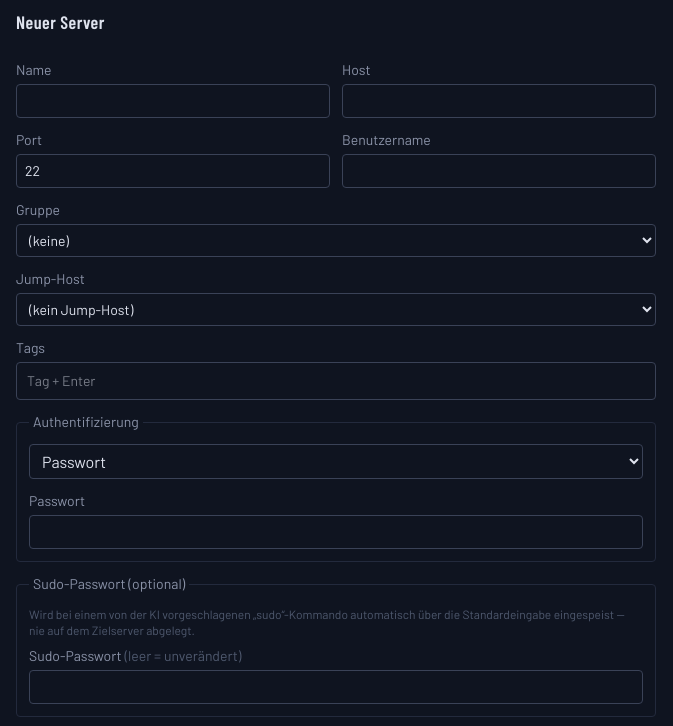
ServerForm — Anmeldeart Schlüsseldatei (Spec 0076, B-1..B-4) › zeigt beim Pfadwechsel sofort 'wird geprüft', nicht den Befund des alten Pfads (Fix 7)
The image size is (673, 726).
Step 1. Select "Schlüsseldatei" in the 3rd dropdown → (336, 462), box [29,444,643,479]
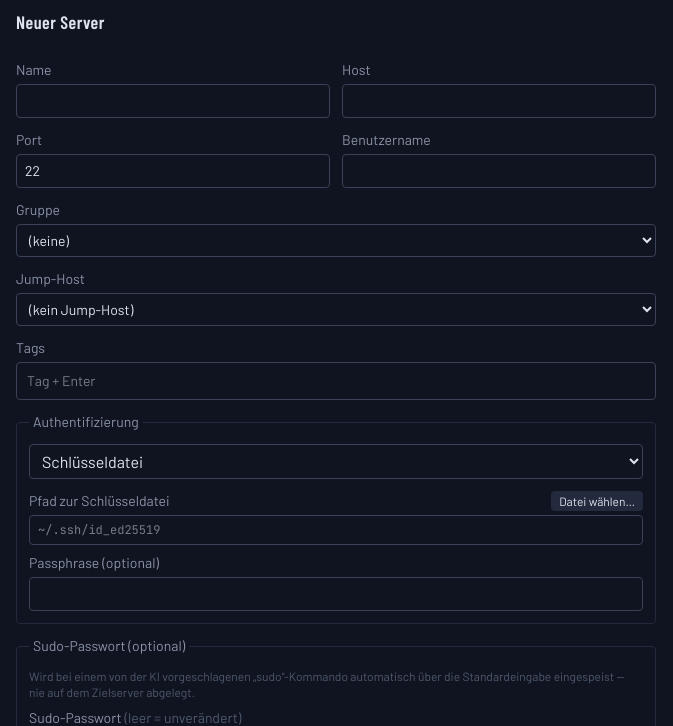
Step 2. Type "/home/deploy/.ssh/id_ed25519" into the field with placeholder "~/.ssh/id_ed25519" → (336, 530), box [29,515,643,545]
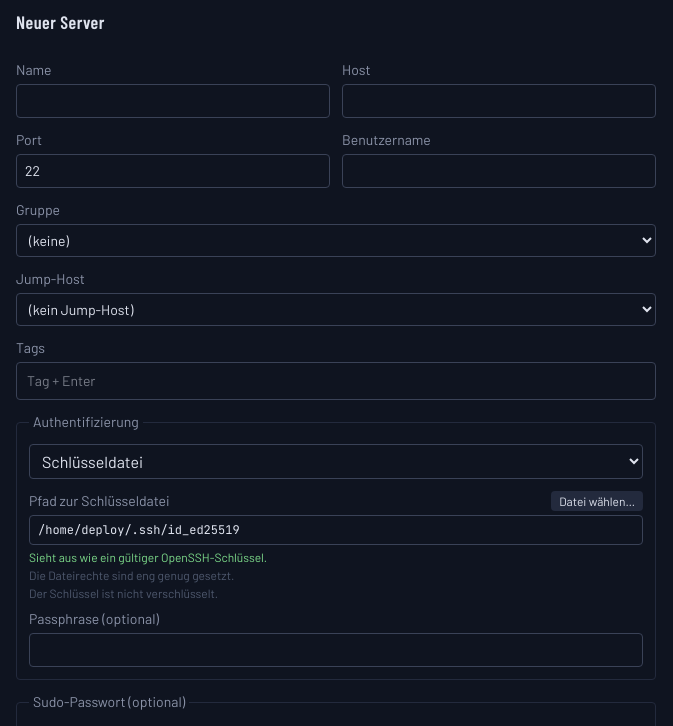
expect the list item "Sieht aus wie ein gültiger OpenSSH-Schlüssel." is shown: met, box [29,550,267,564]
Step 3. Replace the text in the field with placeholder "~/.ssh/id_ed25519" with "/tmp/anderer-pfad" → (336, 530), box [29,515,643,545]
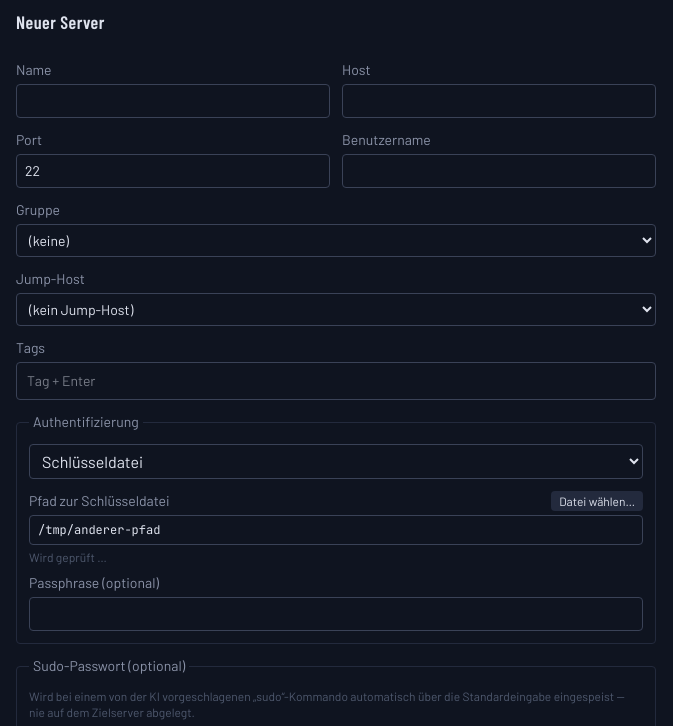
expect the list item "Sieht aus wie ein gültiger OpenSSH-Schlüssel." is gone: met
expect the text "Wird geprüft …" is shown: met, box [29,550,107,564]
